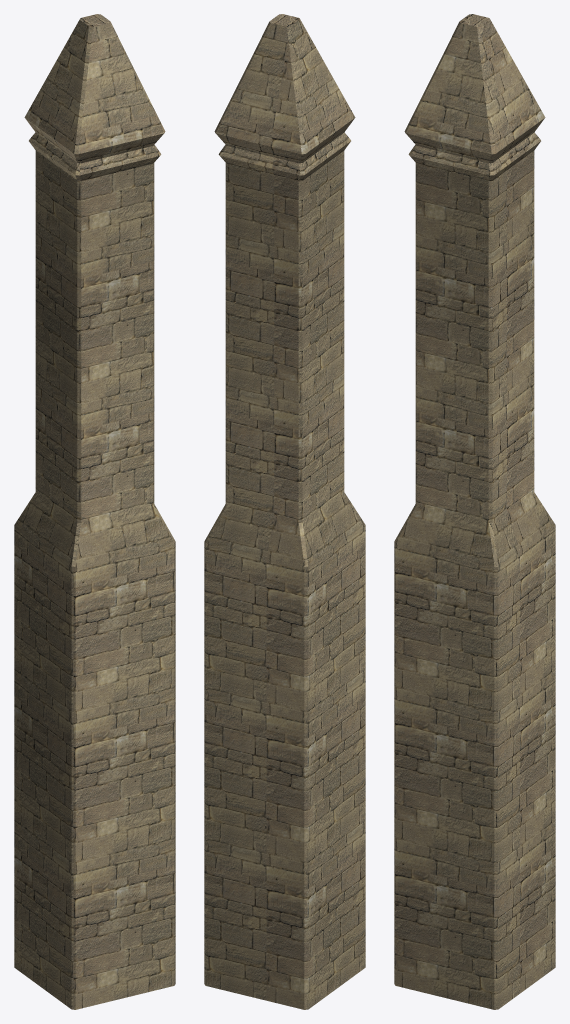
The model's file is Pillar_A.FBX.
3 renders of one model, left to right at view 1: azimuth 30°, elevation 25°; view 2: azimuth 150°, elevation 25°; view 3: azimuth 330°, elevation 25°, orthographic.
Visible parts, largest first — view 1: Pillar_A; view 2: Pillar_A; view 3: Pillar_A.
Boxes of the visible parts, bbox=[...] form: Pillar_A: bbox=[14, 14, 175, 1009]; Pillar_A: bbox=[204, 14, 365, 1009]; Pillar_A: bbox=[394, 14, 555, 1009].
Size of the model in its own units: 162 by 1422 by 162.
